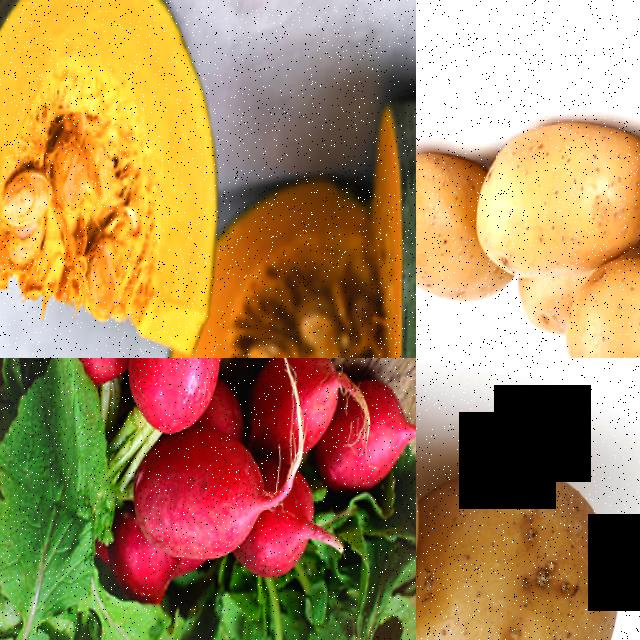potato: (416, 447, 636, 640), (475, 120, 640, 280), (416, 144, 482, 310)
pumpkin: (0, 0, 236, 358), (206, 94, 416, 358)
radishes: (16, 358, 416, 640)
